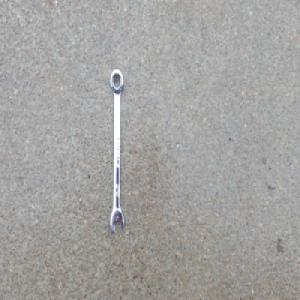Wrench: (109, 67, 125, 234)
